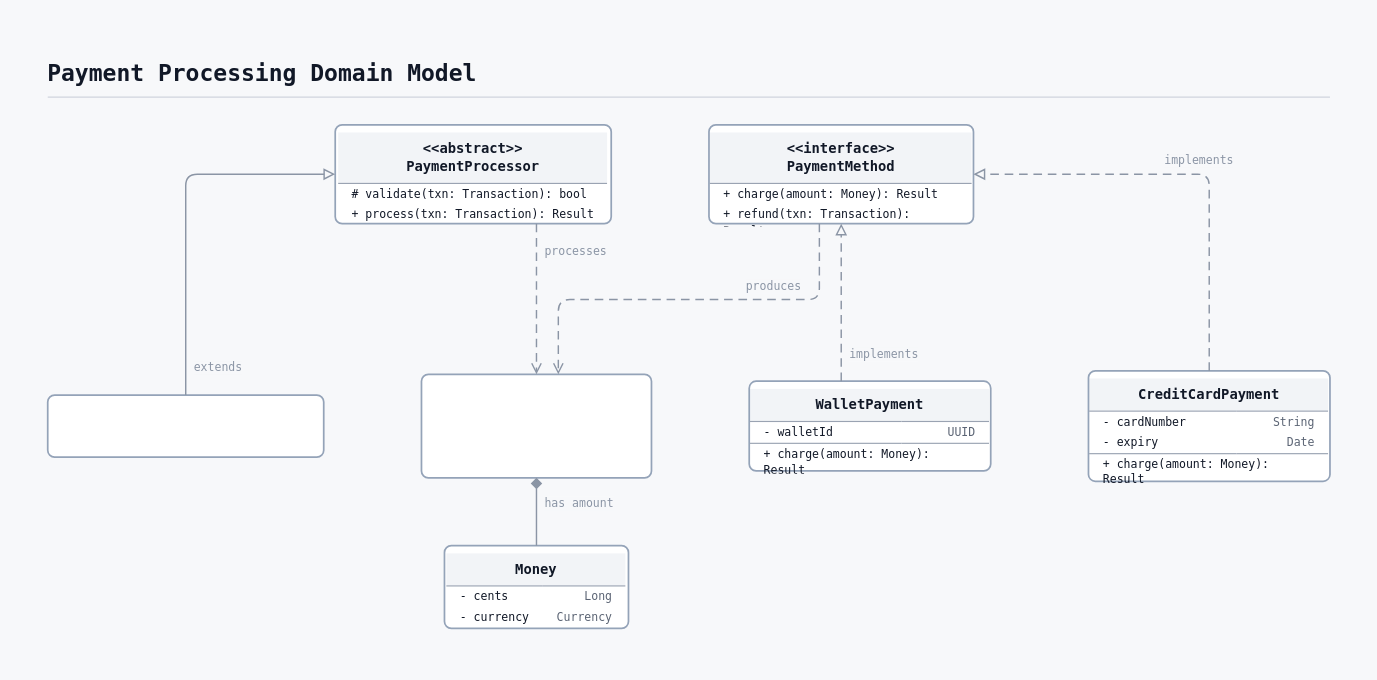
The diagram is 1377 pixels wide and 680 high, and some of its shapes have lost their labels. Each missing label, with the centre of its shape:
StripeProcessor + process(txn: Transaction): Result: point (185, 425)
Transaction - id UUID - amount Money - status TransactionStatus: point (536, 425)
